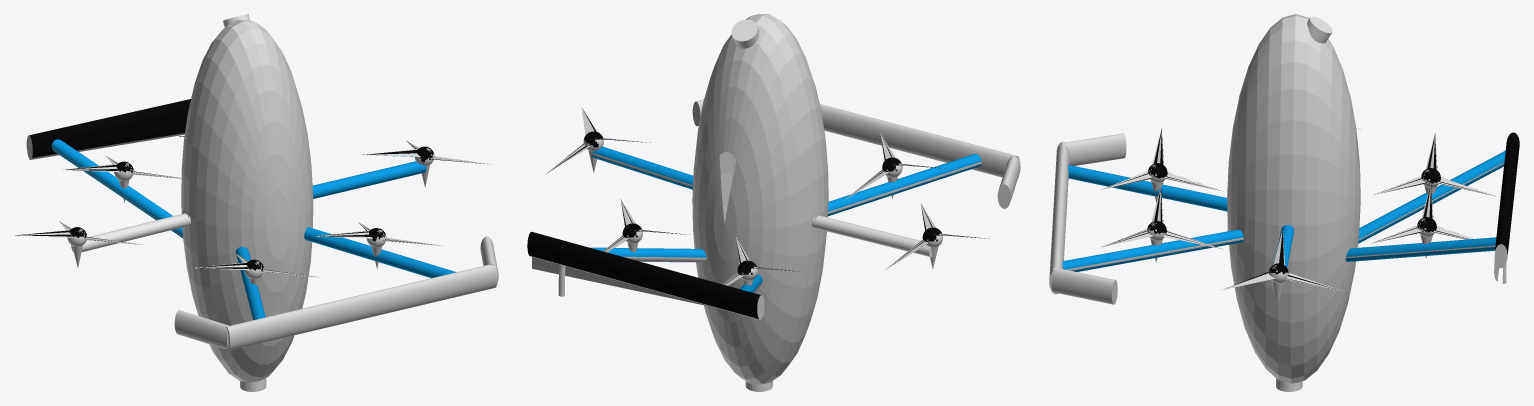
Rendered from Drone_rotated.fbx.
3 renders of one model, left to right at view 1: azimuth 30°, elevation 25°; view 2: azimuth 150°, elevation 25°; view 3: azimuth 270°, elevation 25°, orthographic. The views are drawn at different scales.
Visible parts, largest first — view 1: Cylinder.016, Cylinder.001, Cylinder.008, Cylinder.011, Cylinder.005, Cylinder.018, Cylinder.002, Cylinder.004, Cylinder.017; view 2: Cylinder.016, Cylinder.001, Cylinder.008, Cylinder.011, Cylinder.005, Cylinder.002, Cylinder.017, Cylinder.003, Cylinder.004, Cylinder; view 3: Cylinder.016, Cylinder.001, Cylinder.008, Cylinder.002, Cylinder.017, Cylinder.018, Cylinder.004, Cylinder.003, Cylinder.
Boxes of the visible parts, bbox=[...] form: Cylinder.016: bbox=[181, 20, 313, 382]; Cylinder.001: bbox=[29, 99, 456, 320]; Cylinder.008: bbox=[174, 236, 498, 350]; Cylinder.011: bbox=[26, 122, 186, 159]; Cylinder.005: bbox=[15, 221, 145, 267]; Cylinder.018: bbox=[315, 222, 443, 268]; Cylinder.002: bbox=[363, 140, 491, 187]; Cylinder.004: bbox=[62, 155, 181, 202]; Cylinder.017: bbox=[193, 253, 320, 286]; Cylinder.016: bbox=[692, 14, 828, 384]; Cylinder.001: bbox=[527, 146, 981, 312]; Cylinder.008: bbox=[692, 99, 1020, 208]; Cylinder.011: bbox=[527, 249, 764, 319]; Cylinder.005: bbox=[885, 203, 989, 269]; Cylinder.002: bbox=[545, 107, 650, 174]; Cylinder.017: bbox=[844, 133, 949, 200]; Cylinder.003: bbox=[603, 199, 689, 252]; Cylinder.004: bbox=[723, 236, 806, 285]; Cylinder: bbox=[731, 19, 759, 48]; Cylinder.016: bbox=[1227, 14, 1360, 383]; Cylinder.001: bbox=[1062, 132, 1519, 281]; Cylinder.008: bbox=[1049, 133, 1126, 304]; Cylinder.002: bbox=[1222, 229, 1344, 304]; Cylinder.017: bbox=[1100, 128, 1223, 202]; Cylinder.018: bbox=[1099, 187, 1222, 262]; Cylinder.004: bbox=[1374, 133, 1495, 196]; Cylinder.003: bbox=[1370, 182, 1473, 258]; Cylinder: bbox=[1307, 16, 1332, 43].
Size of the model in its own units: 767 by 607 by 703.
